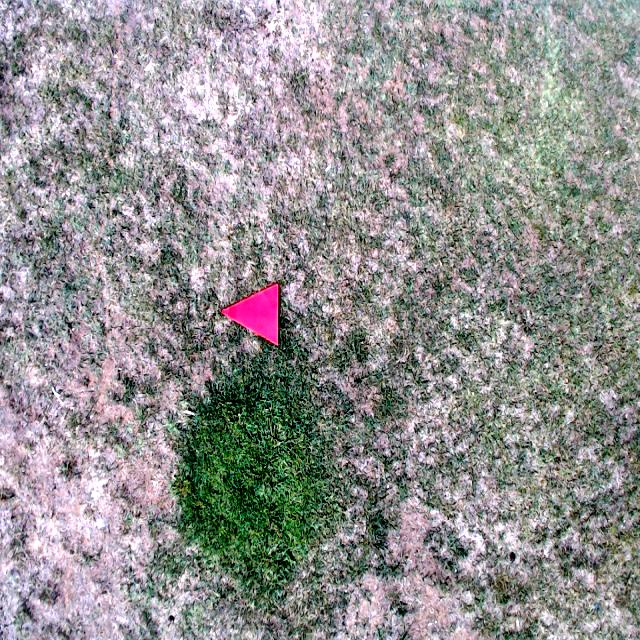red_triangle: (218, 282, 279, 345)
